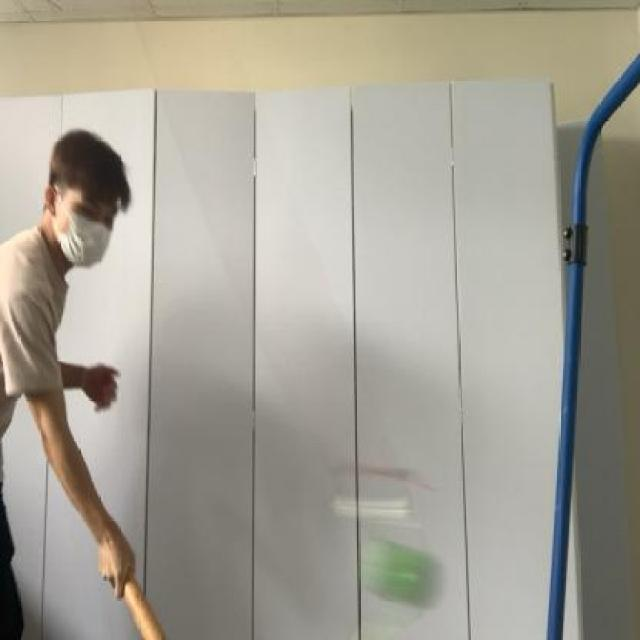baseball: (338, 520, 448, 617)
